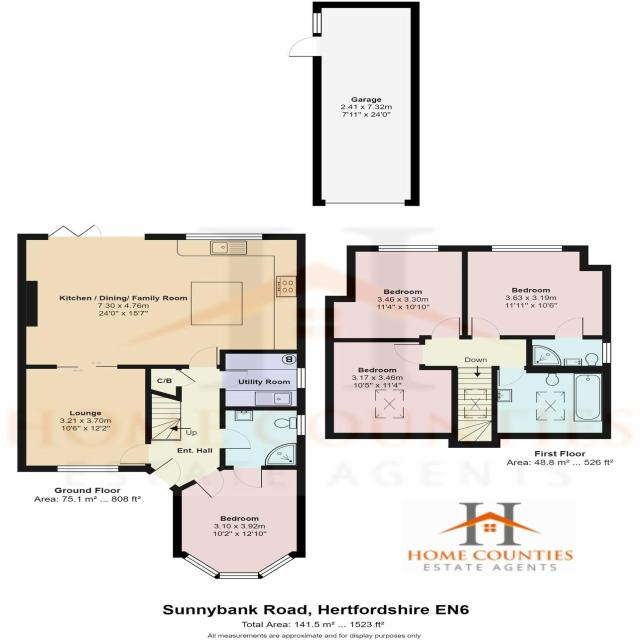DOOR: (148, 457, 183, 489), (193, 467, 226, 499), (220, 427, 253, 450), (392, 343, 426, 365), (231, 465, 263, 488), (470, 316, 502, 339), (118, 443, 151, 465), (188, 346, 219, 369), (554, 316, 585, 339), (431, 317, 460, 339), (498, 366, 527, 387)
FOLDING DOOR: (42, 222, 147, 242)
ROOM: (18, 224, 306, 472), (173, 465, 306, 579), (461, 245, 612, 340), (325, 245, 468, 342), (325, 338, 459, 440)
WINDOW: (182, 553, 220, 578), (258, 553, 295, 578), (184, 233, 264, 240), (490, 245, 563, 252), (56, 465, 120, 472), (377, 245, 440, 252), (218, 571, 259, 579), (296, 367, 306, 389), (602, 342, 612, 364), (297, 413, 306, 436)
